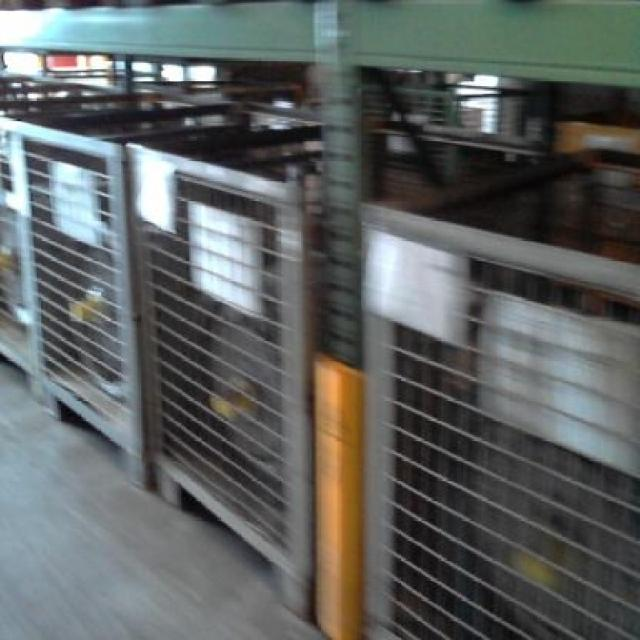pallets: (0, 52, 637, 637)
